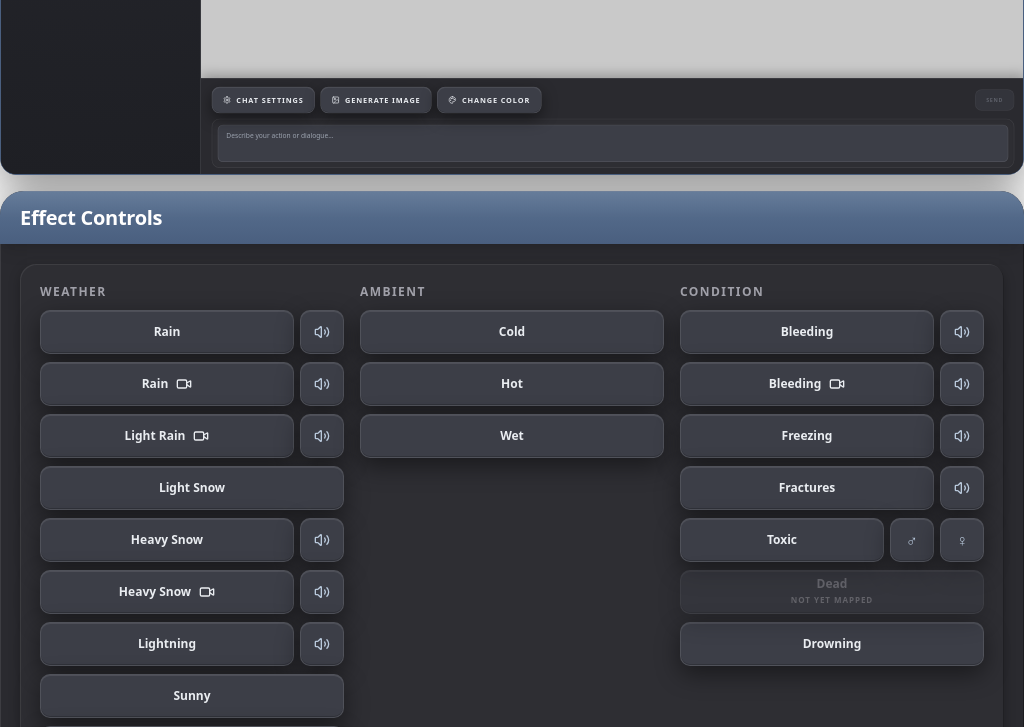
Test: ChatEffectsLayerPreview › adds the generated bleeding plate directly below the original Bleeding control
Later steps or results of the test are not shown.
(page scrolled)
What coordinates should you click on to do the following:
click the button named "Enable chat bleeding video audio"
I would click on:
 (962, 384)
Its box is [940, 362, 984, 406].
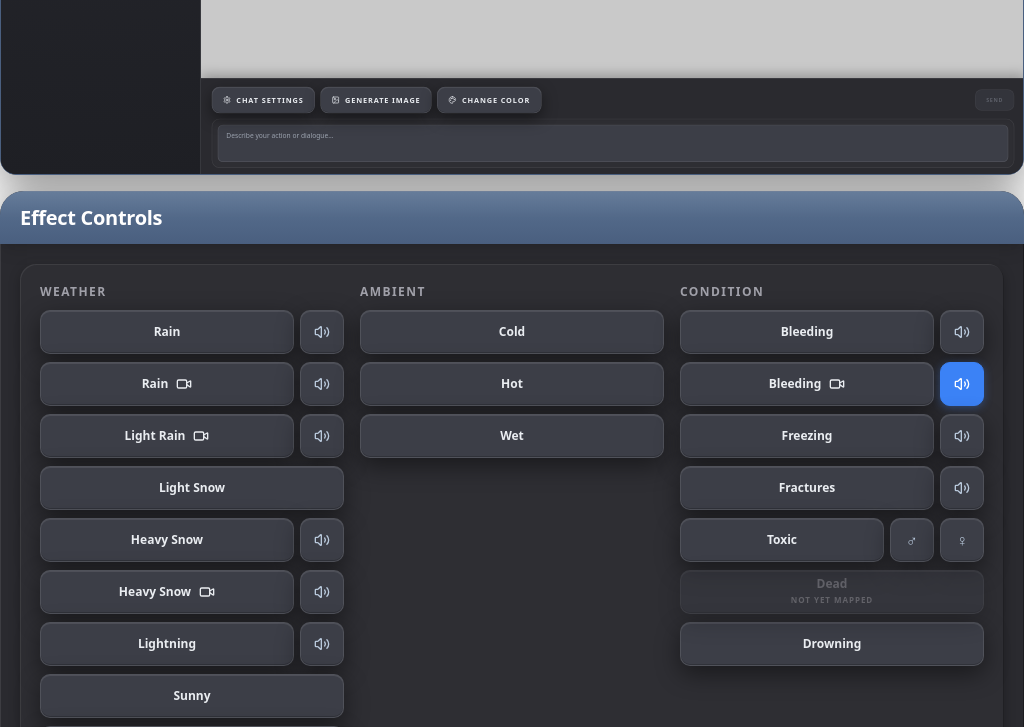
Expected: the button named "Disable chat bleeding video audio" is pressed, [940, 362, 984, 406]
What coordinates should you click on to do the following:
click the 2nd button "Bleeding"
I would click on:
 (807, 384)
Its box is [680, 362, 934, 406].
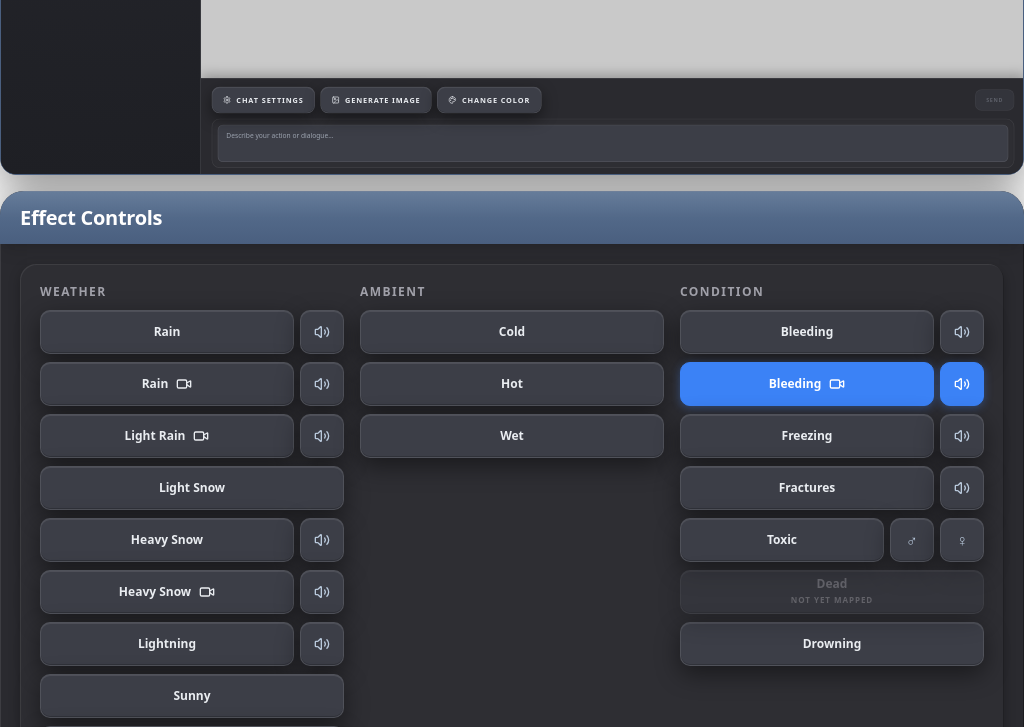
Expected: the 2nd button "Bleeding" is pressed, [680, 362, 934, 406]
